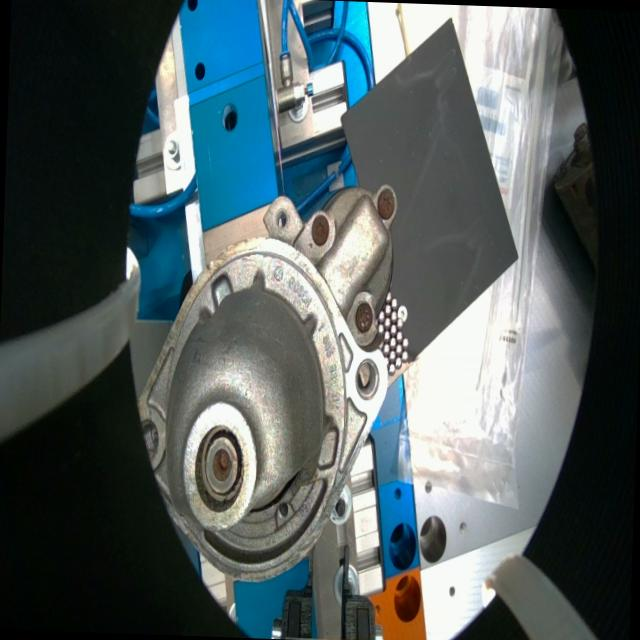Torx: (354, 300, 374, 332), (310, 213, 329, 246), (376, 187, 395, 219)
